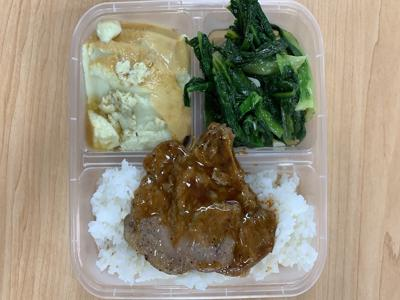df: (84, 17, 192, 147)
ymc: (200, 10, 312, 146)
